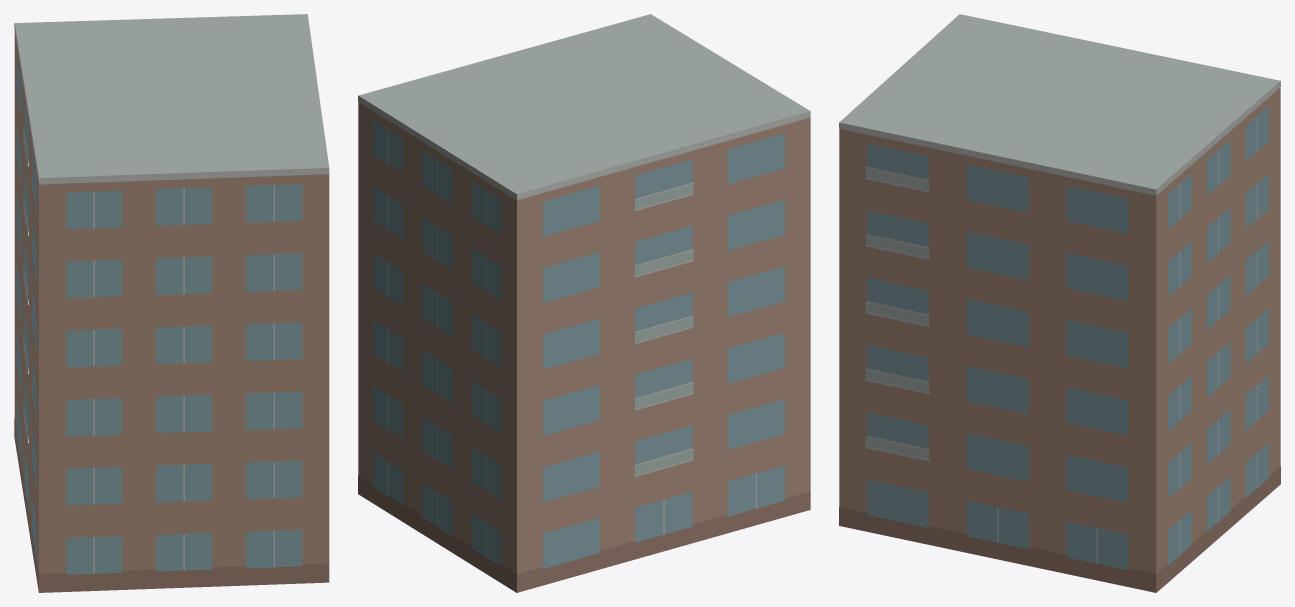
Rendered from survey-upis-32891076.glb.
The picture shows the model from 3 angles, left to right: view 1: azimuth 30°, elevation 25°; view 2: azimuth 150°, elevation 25°; view 3: azimuth 270°, elevation 25°; orthographic projection. The views are drawn at different scales.
Visible parts, largest first — view 1: survey-upis-32891076.tmp; view 2: survey-upis-32891076.tmp; view 3: survey-upis-32891076.tmp.
Boxes of the visible parts, x1=… form: survey-upis-32891076.tmp: x1=14, y1=14, x2=329, y2=592; survey-upis-32891076.tmp: x1=358, y1=14, x2=810, y2=592; survey-upis-32891076.tmp: x1=839, y1=14, x2=1280, y2=592.
Size of the model in its own units: 14.75 by 15.8 by 15.69.
